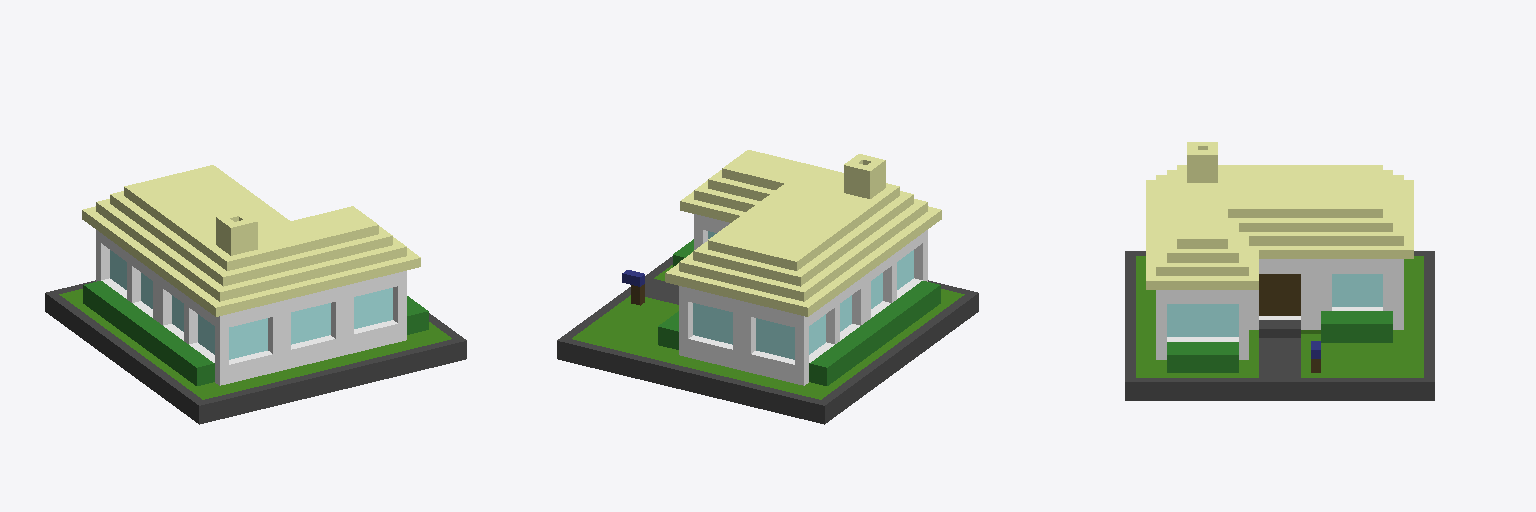
The picture shows the model from 3 angles: view 1: azimuth 30°, elevation 25°; view 2: azimuth 150°, elevation 25°; view 3: azimuth 270°, elevation 25°; orthographic projection.
Bounding box in the file's own units: 30 × 17 × 30.
Materials: 1 (1 with a texture image).